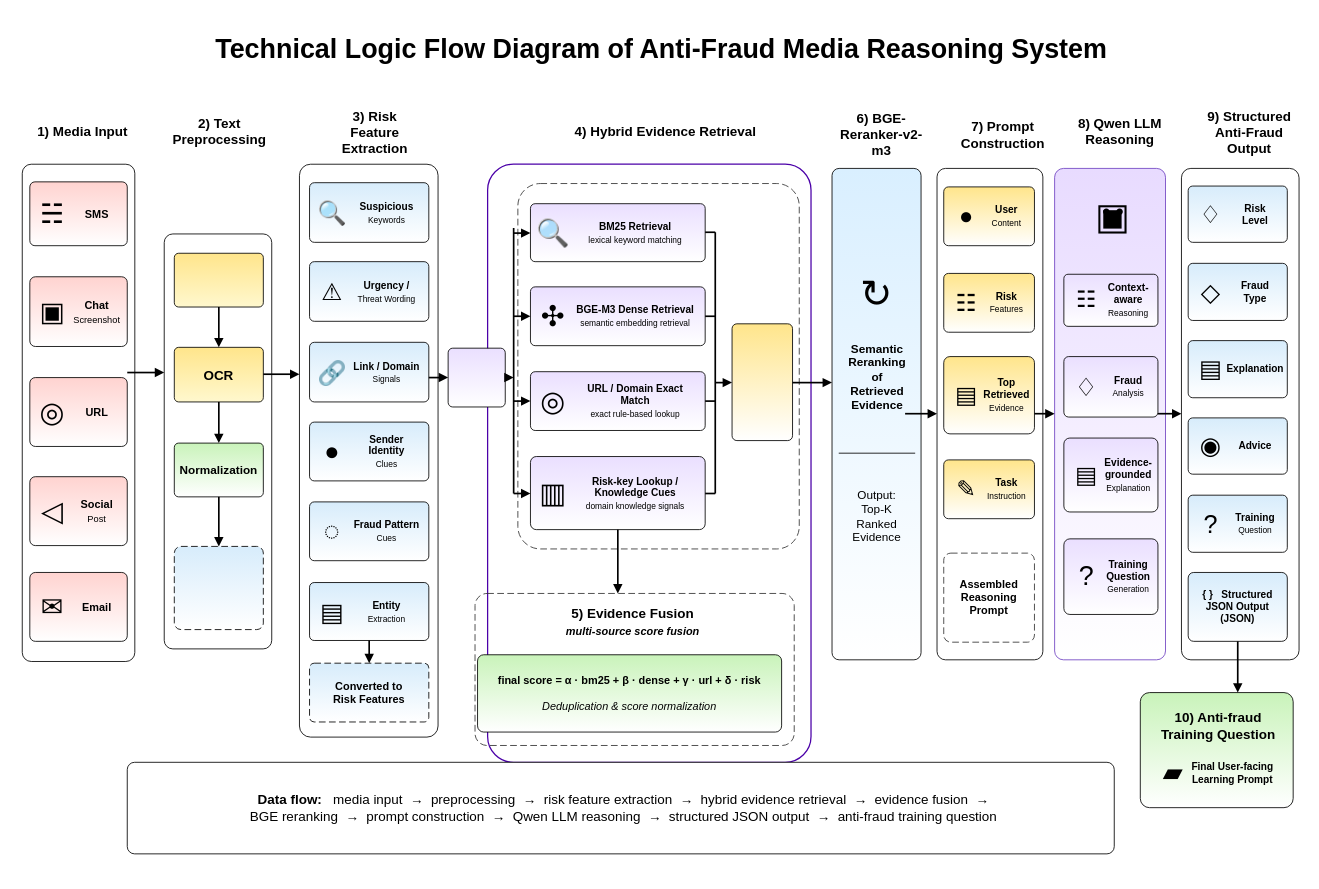
Some shapes in this 1319 by 889 pixel diagram are drawn without their labels. The centre of each missing label's shape, as x and y in pixels:
"Parsing" belongs at point 218,279.
"Query / Risk Features" belongs at point 476,377.
"Retrieved Candidates (from multiple sources)" belongs at point 762,382.
"Tokenized / Normalized Text" belongs at point 218,588.
